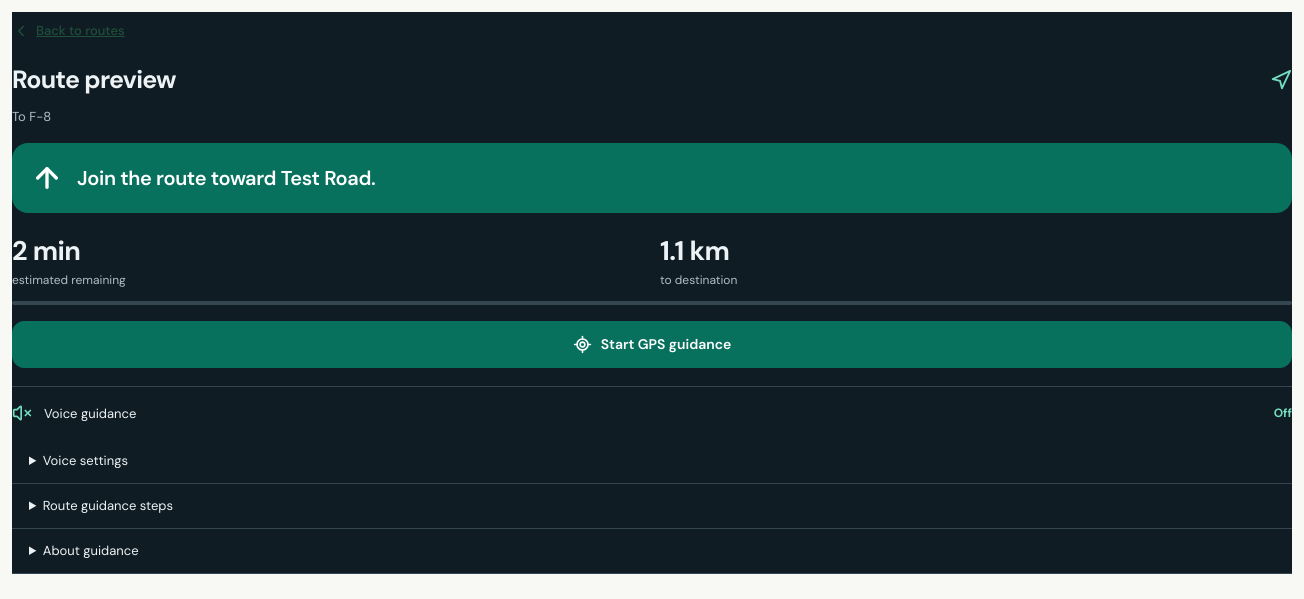
Scenario: shows a coarse location and its actual uncertainty without using it for rerouting or trip capture
Click the button "Start GPS guidance": (652, 345) x1=12 y1=321 x2=1292 y2=368
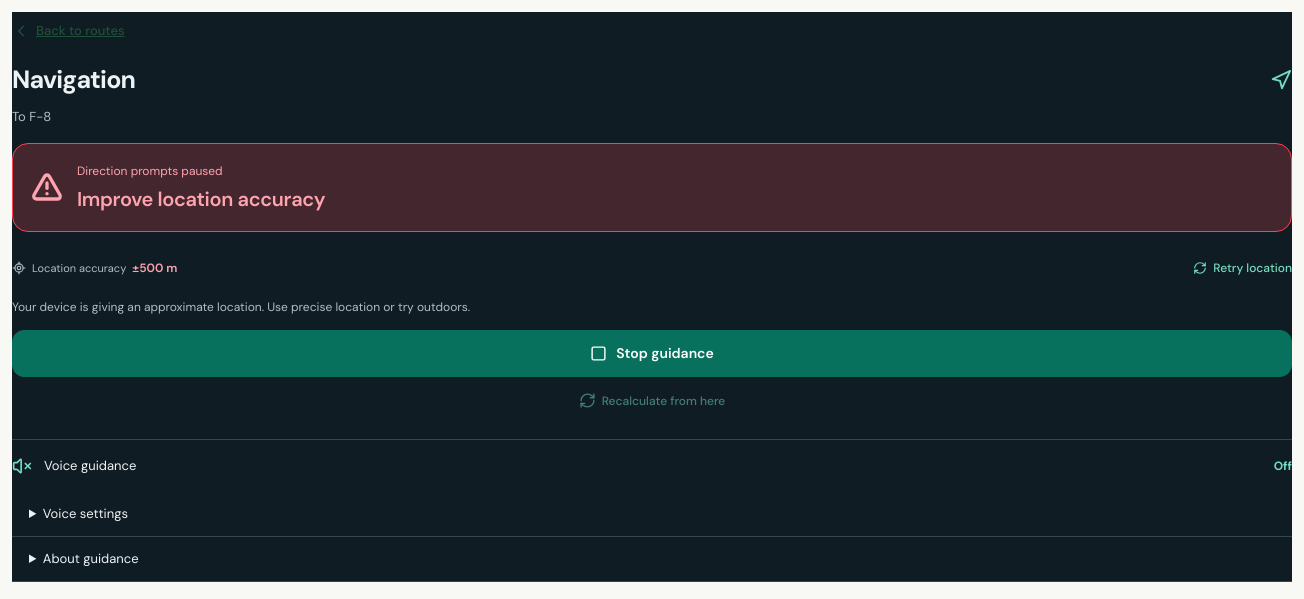
Check: the text "±500 m" is shown, box x1=132 y1=259 x2=177 y2=277
Check: the heading "Improve location accuracy" is shown, box x1=77 y1=185 x2=325 y2=213
Check: the element with class "navigation-metrics" is gone
